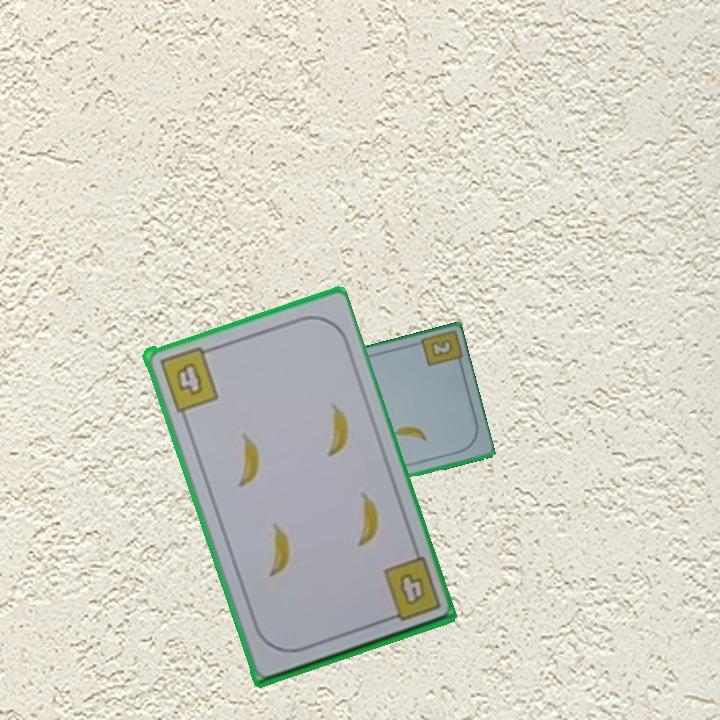2b: (427, 336, 455, 360)
4b: (155, 342, 221, 414), (395, 568, 428, 609)
